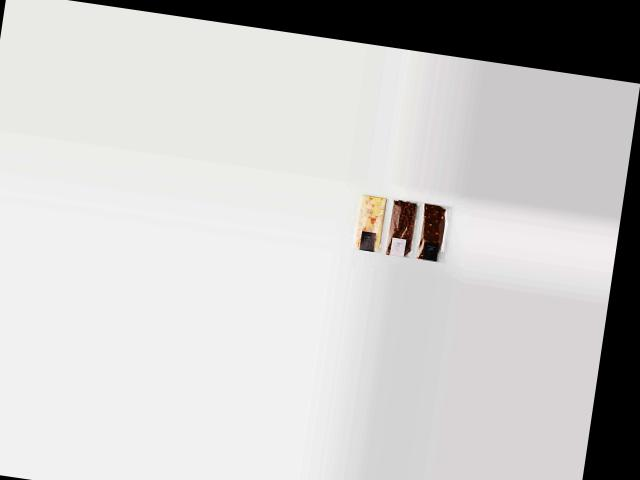chocolate: (414, 197, 457, 262)
